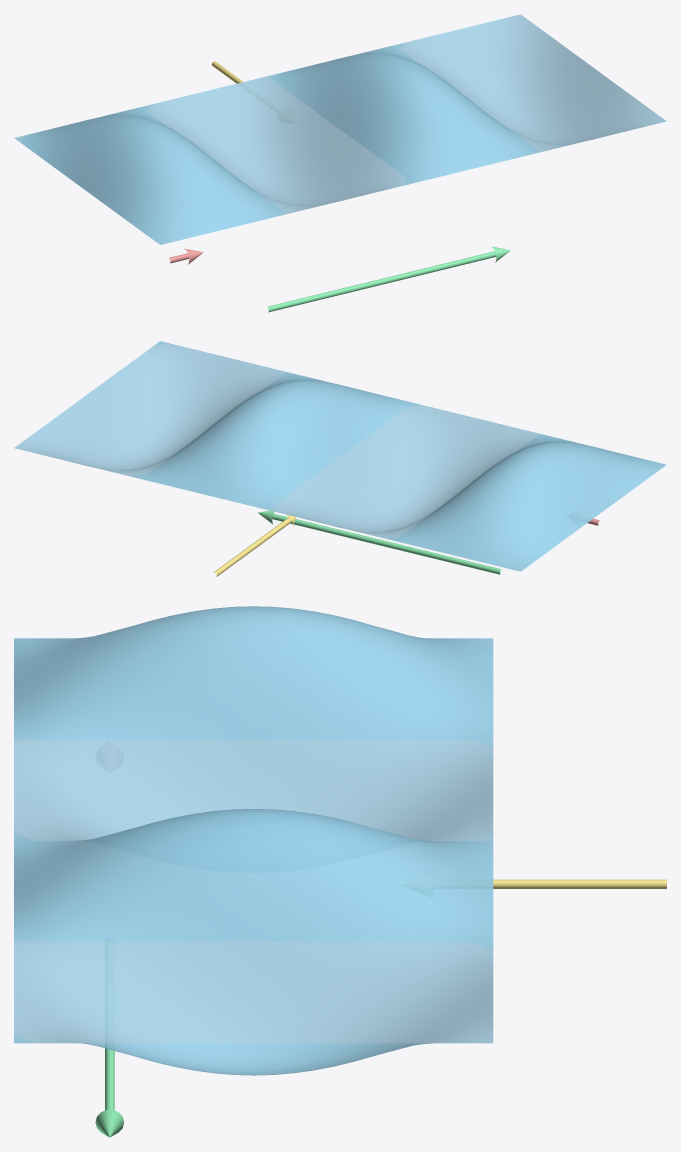
Rendered from wave-surface.glb.
The picture shows the model from 3 angles, top to bottom: view 1: azimuth 30°, elevation 25°; view 2: azimuth 150°, elevation 25°; view 3: azimuth 270°, elevation 25°; orthographic projection. The views are drawn at different scales.
Visible parts, largest first — view 1: wave_surface, equilibrium_plane, wavelength_span; view 2: wave_surface, equilibrium_plane, wavelength_span, wave_direction; view 3: wave_surface, equilibrium_plane, wave_direction, wavelength_span.
Part boxes in pixels (bbox=[...]): wave_surface: bbox=[14, 14, 666, 244]; equilibrium_plane: bbox=[16, 15, 663, 213]; wavelength_span: bbox=[267, 246, 510, 312]; wave_surface: bbox=[14, 341, 666, 571]; equilibrium_plane: bbox=[15, 342, 539, 569]; wavelength_span: bbox=[258, 510, 501, 574]; wave_direction: bbox=[213, 515, 295, 576]; wave_surface: bbox=[14, 606, 493, 1075]; equilibrium_plane: bbox=[14, 640, 492, 1042]; wave_direction: bbox=[493, 879, 666, 888]; wavelength_span: bbox=[95, 1048, 123, 1137].
Bounding box in the file's own units: 1.6 × 0.522 × 1.09.
